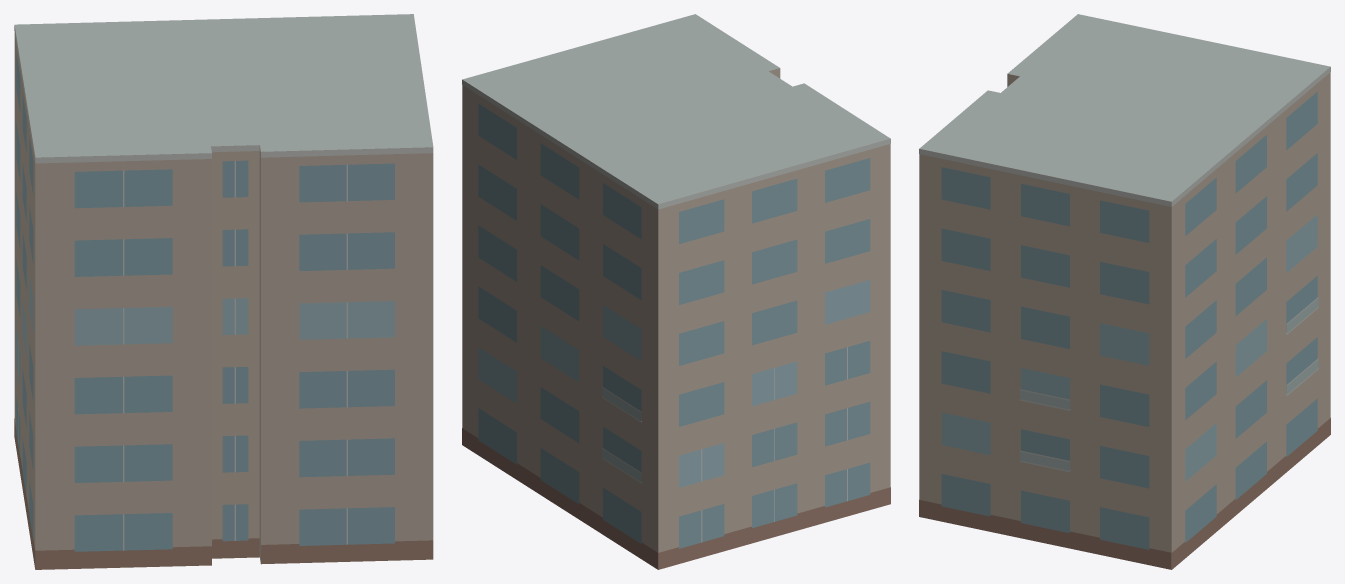
The model's file is survey-upis-32956901.glb.
The picture shows the model from 3 angles, left to right: view 1: azimuth 30°, elevation 25°; view 2: azimuth 150°, elevation 25°; view 3: azimuth 270°, elevation 25°; orthographic projection. The views are drawn at different scales.
Visible parts, largest first — view 1: survey-upis-32956901.tmp; view 2: survey-upis-32956901.tmp; view 3: survey-upis-32956901.tmp.
Part boxes in pixels (box(x1,y1,x2,y2)): survey-upis-32956901.tmp: box(14, 14, 433, 569); survey-upis-32956901.tmp: box(462, 14, 890, 569); survey-upis-32956901.tmp: box(919, 14, 1330, 569).
Size of the model in its own units: 18.82 by 17.2 by 17.44.
